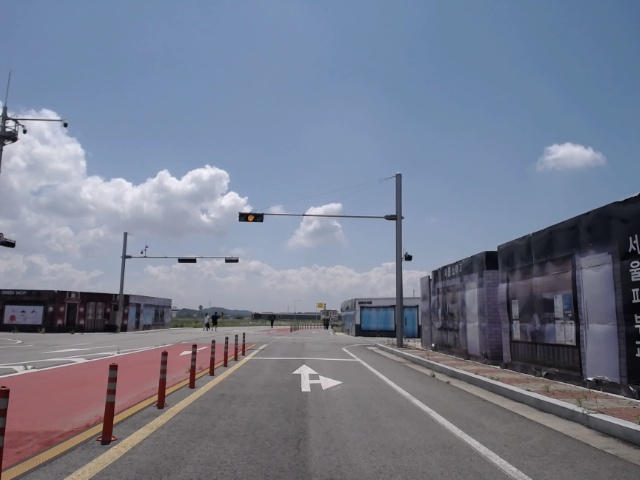orange_3: (238, 212, 264, 222)
